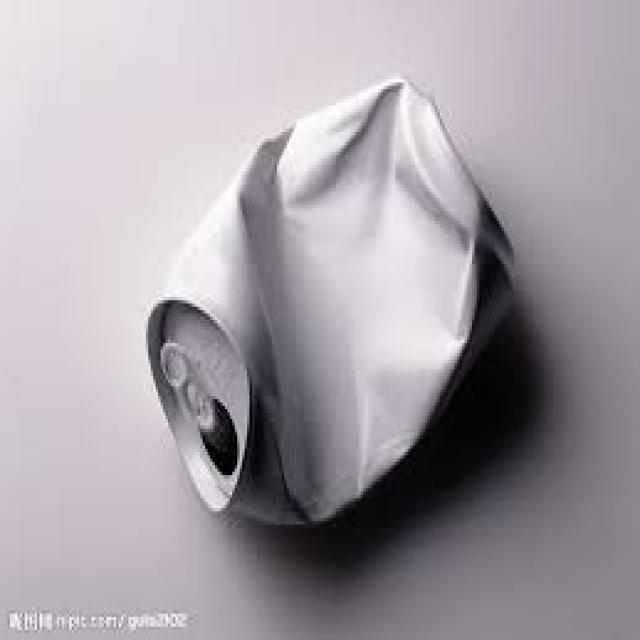recyclable: (145, 77, 512, 528)
